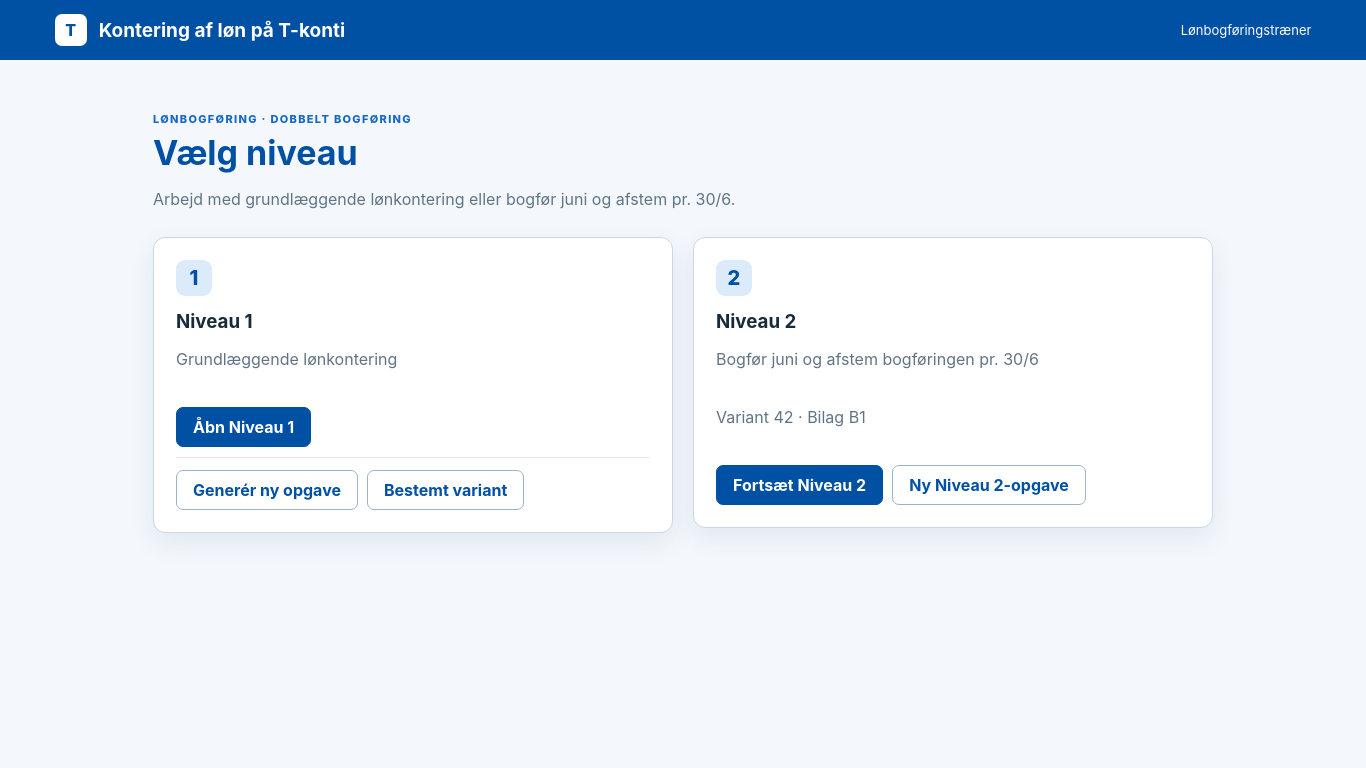
J3C active V2.1 Home and lifecycle integration › continues a valid v2 session over legacy data without regeneration
Click the button "Fortsæt Niveau 2". click: [800, 485]
box: [716,465,883,505]
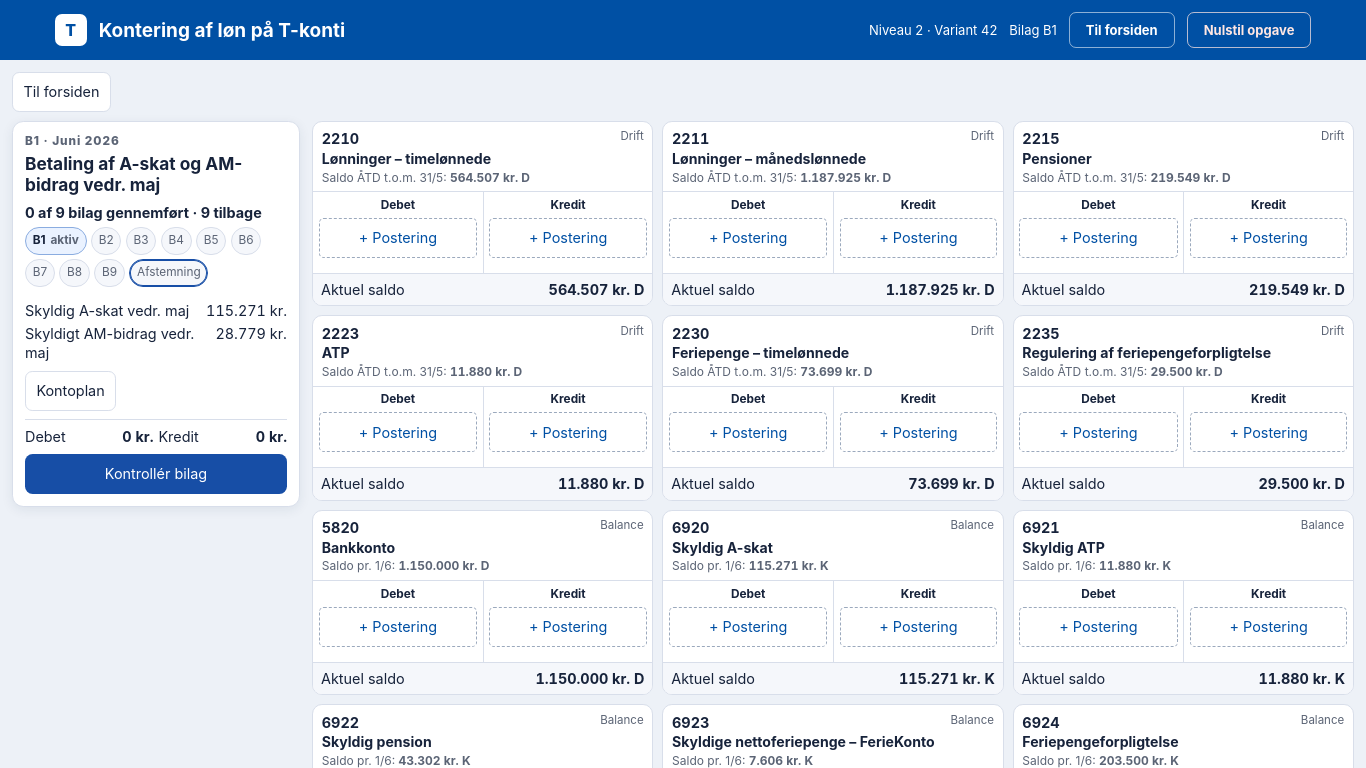
Check: the text "Niveau 2 · Variant 42" is shown, box [869,22,997,38]
